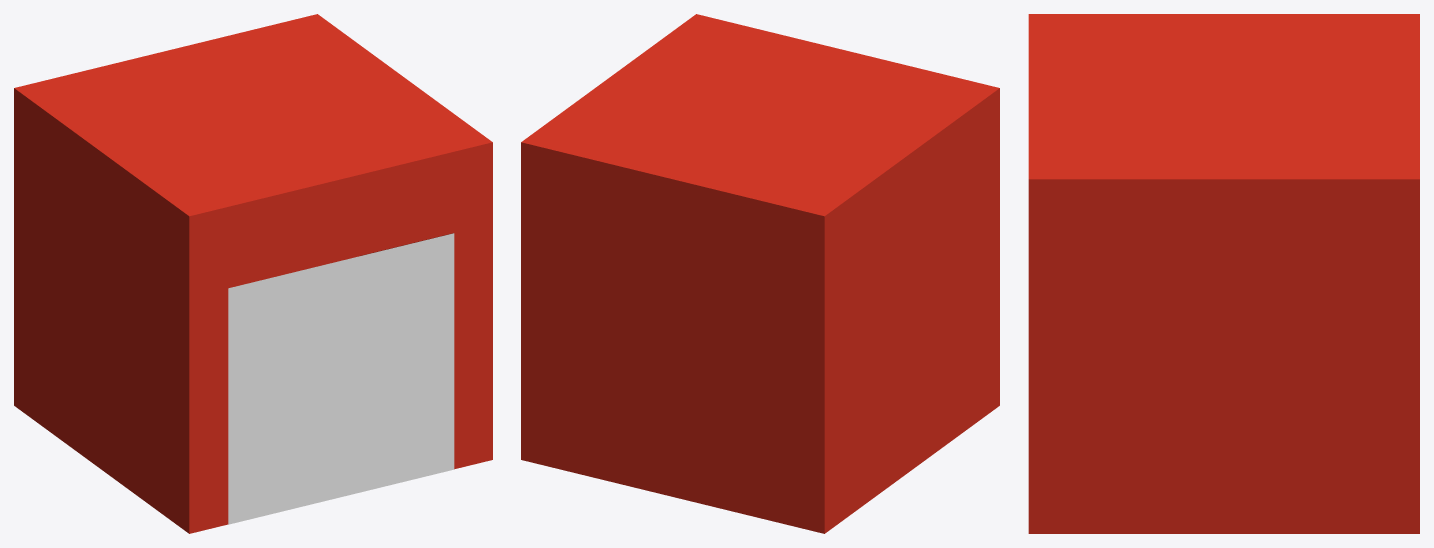
The model's file is city_perfdect.glb.
3 views of the same model, side by side, from view 1: azimuth 30°, elevation 25°; view 2: azimuth 150°, elevation 25°; view 3: azimuth 270°, elevation 25° (orthographic). The views are drawn at different scales.
Visible parts, largest first — view 1: 큐브, Door; view 2: 큐브; view 3: 큐브.
Part boxes in pixels (box(x1,y1,x2,y2)): 큐브: box(14, 14, 492, 533); Door: box(228, 233, 454, 524); 큐브: box(521, 14, 999, 533); 큐브: box(1028, 14, 1419, 533).
Size of what is drawn, in the model's own units: 6.35 by 6.35 by 6.36.
